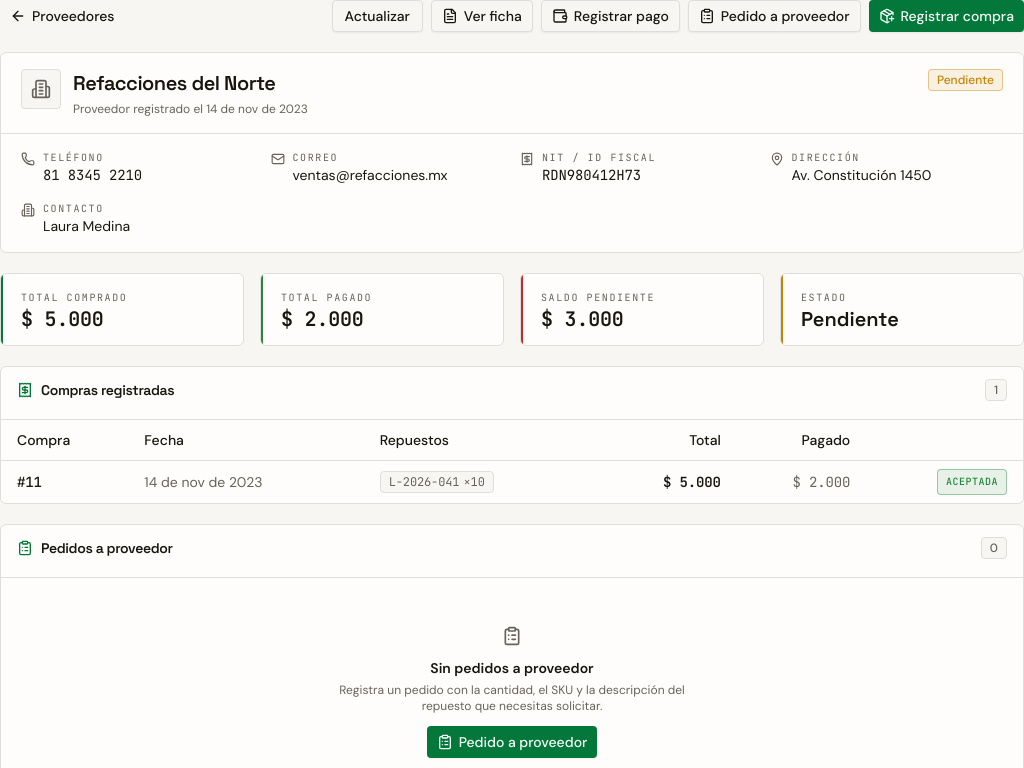
Test: SupplierDetailPage › shows only quantity, SKU and description in the supplier-order modal
Click the button with test id "supplier_detail.open_supplier_order_button". click: (774, 16)
box: [688, 0, 860, 32]
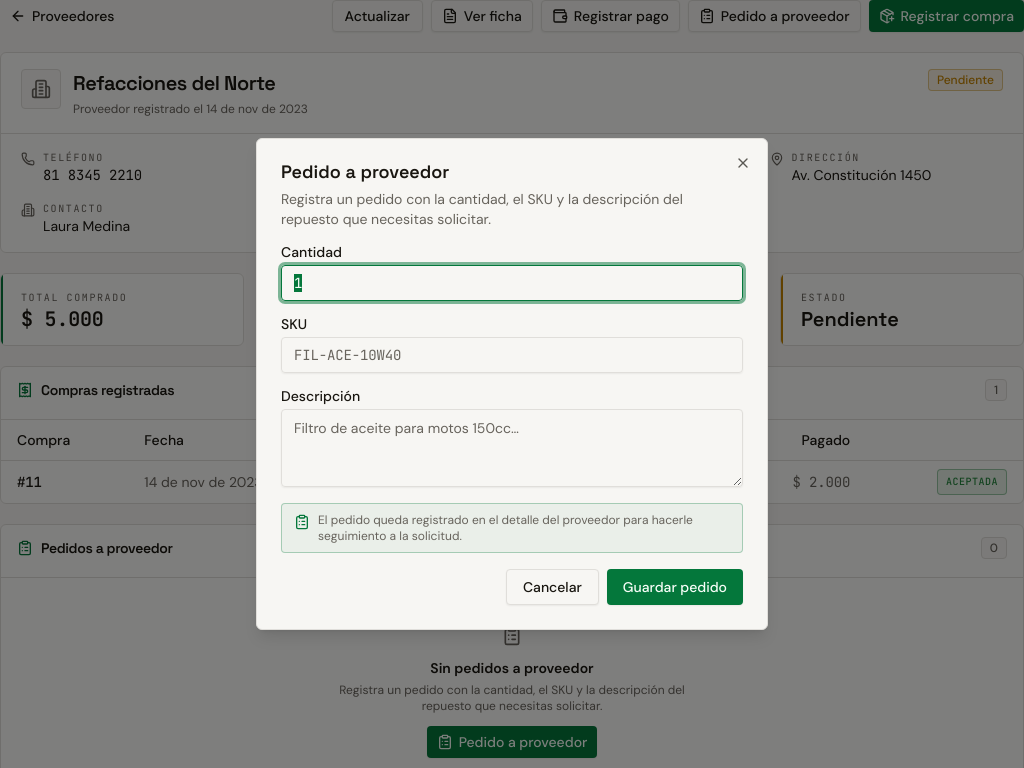
Check: the field with test id "supplier_order.quantity_input" is shown, box [281, 265, 743, 301]
Check: the field with test id "supplier_order.sku_input" is shown, box [281, 337, 743, 373]
Check: the text box with test id "supplier_order.description_input" is shown, box [281, 409, 743, 487]
